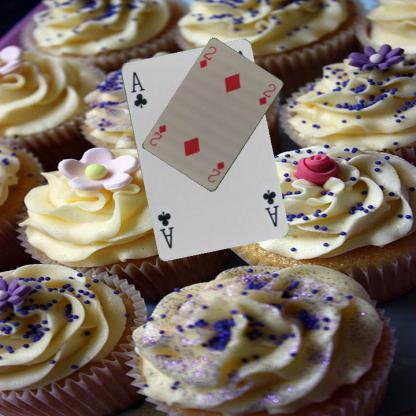2d: (197, 43, 218, 70), (205, 159, 226, 184)
Ac: (127, 69, 148, 109), (260, 187, 280, 228)
